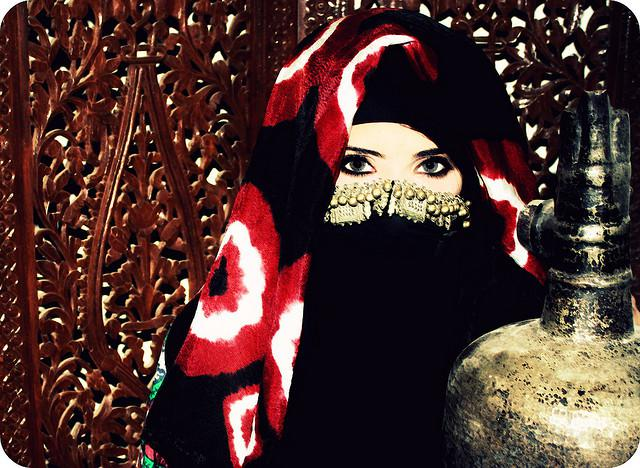OK: (306, 121, 475, 281)
